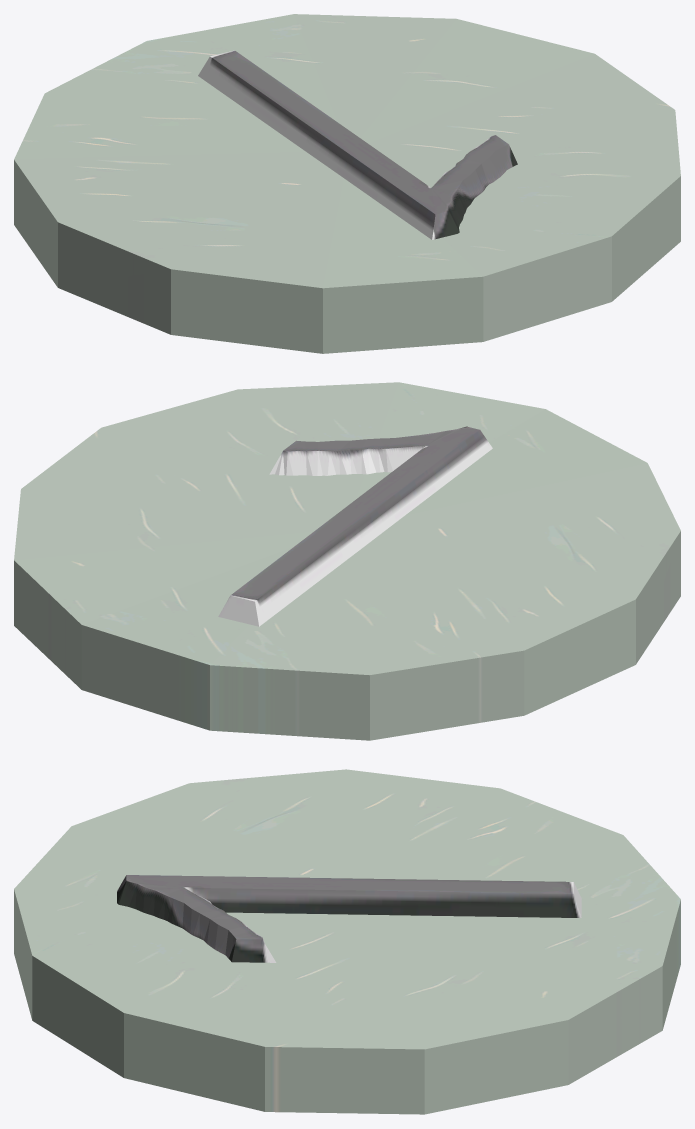
Rendered from Shekel.glb.
3 views of the same model, one above another, from view 1: azimuth 30°, elevation 25°; view 2: azimuth 150°, elevation 25°; view 3: azimuth 270°, elevation 25° (orthographic).
Visible parts, largest first — view 1: Shekel; view 2: Shekel; view 3: Shekel.
Boxes of the visible parts, x1,y1,x2,y2 form: Shekel: (14,14,680,353); Shekel: (14,382,680,740); Shekel: (14,769,680,1114).
Size of the model in its own units: 7.11 by 1.11 by 7.18.
1 material, 1 textured.
